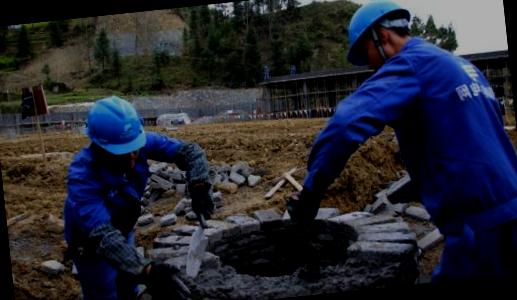person: (266, 0, 517, 295), (41, 87, 217, 300)
